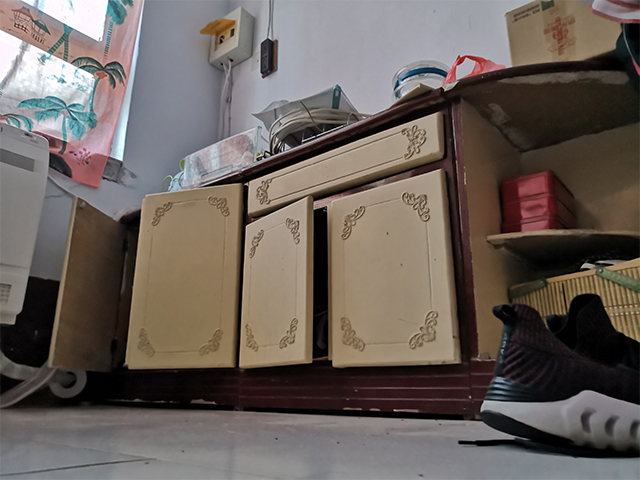cabinet: (44, 82, 456, 423)
